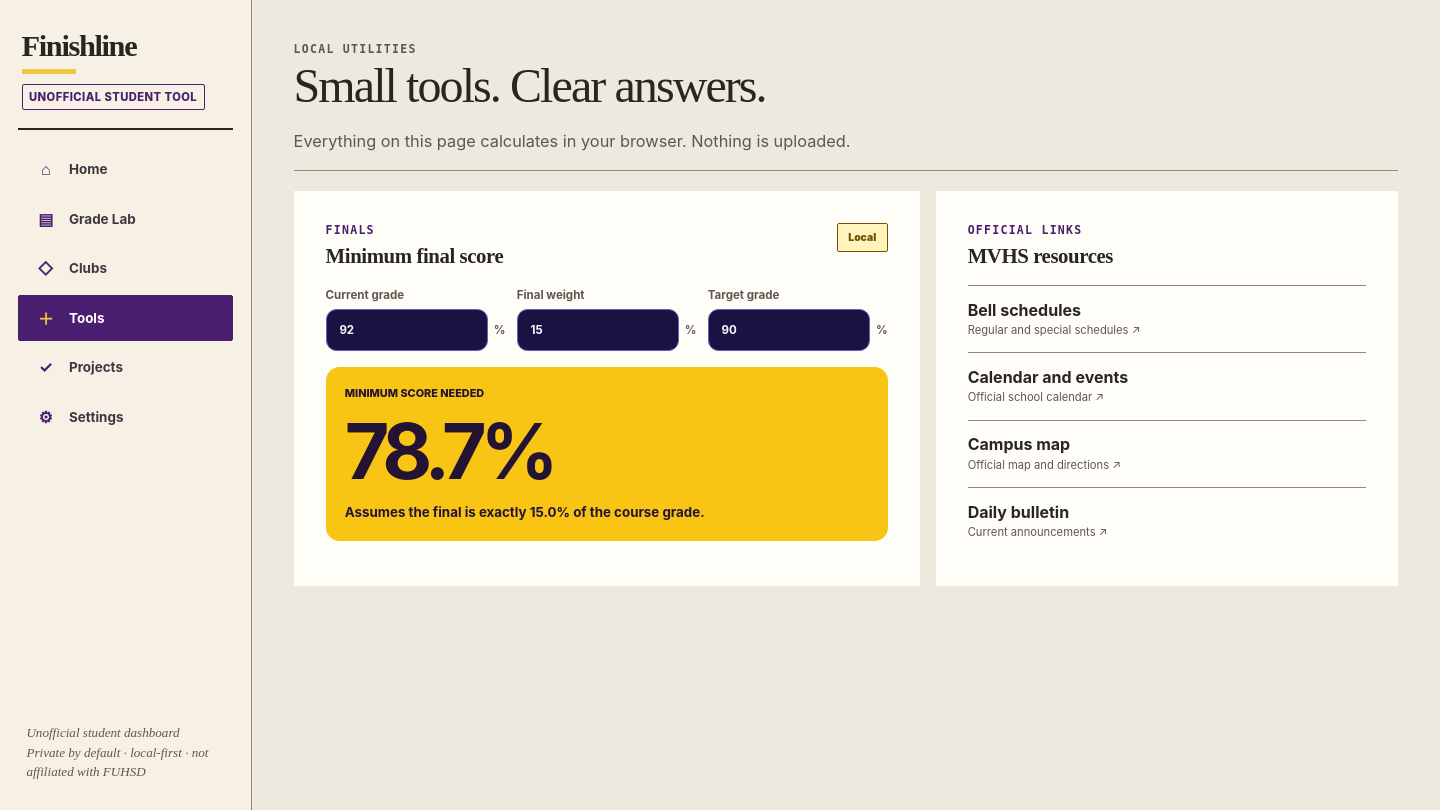
Test: finals calculator rejects blank numeric fields instead of treating them as zero
Clear the field labelled "Current grade": (407, 330) [326,309,488,351]
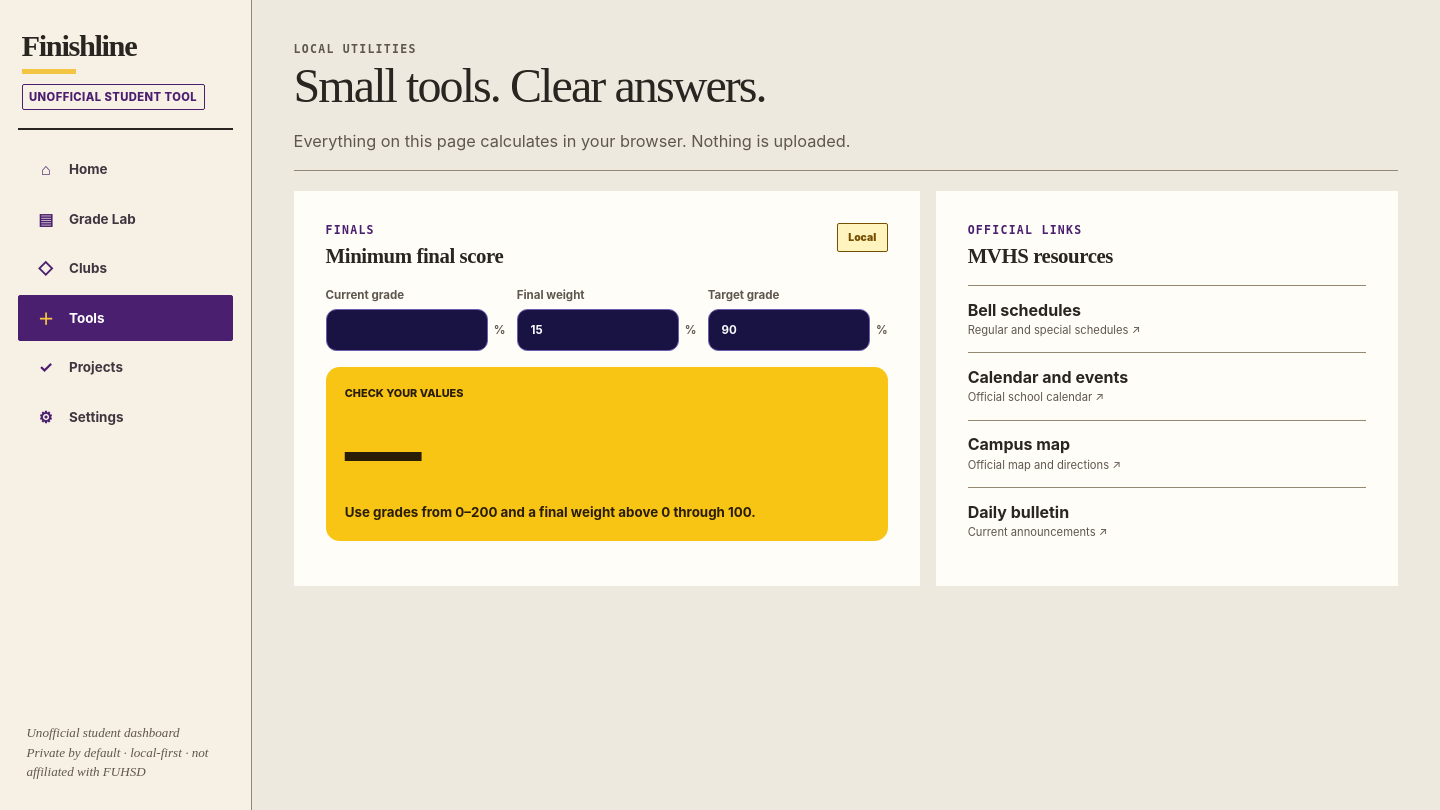
Expected: the message shows "Check your values", [345,386,463,400]
In the field labelled "Current grade": (407, 330) [326,309,488,351], type "92"
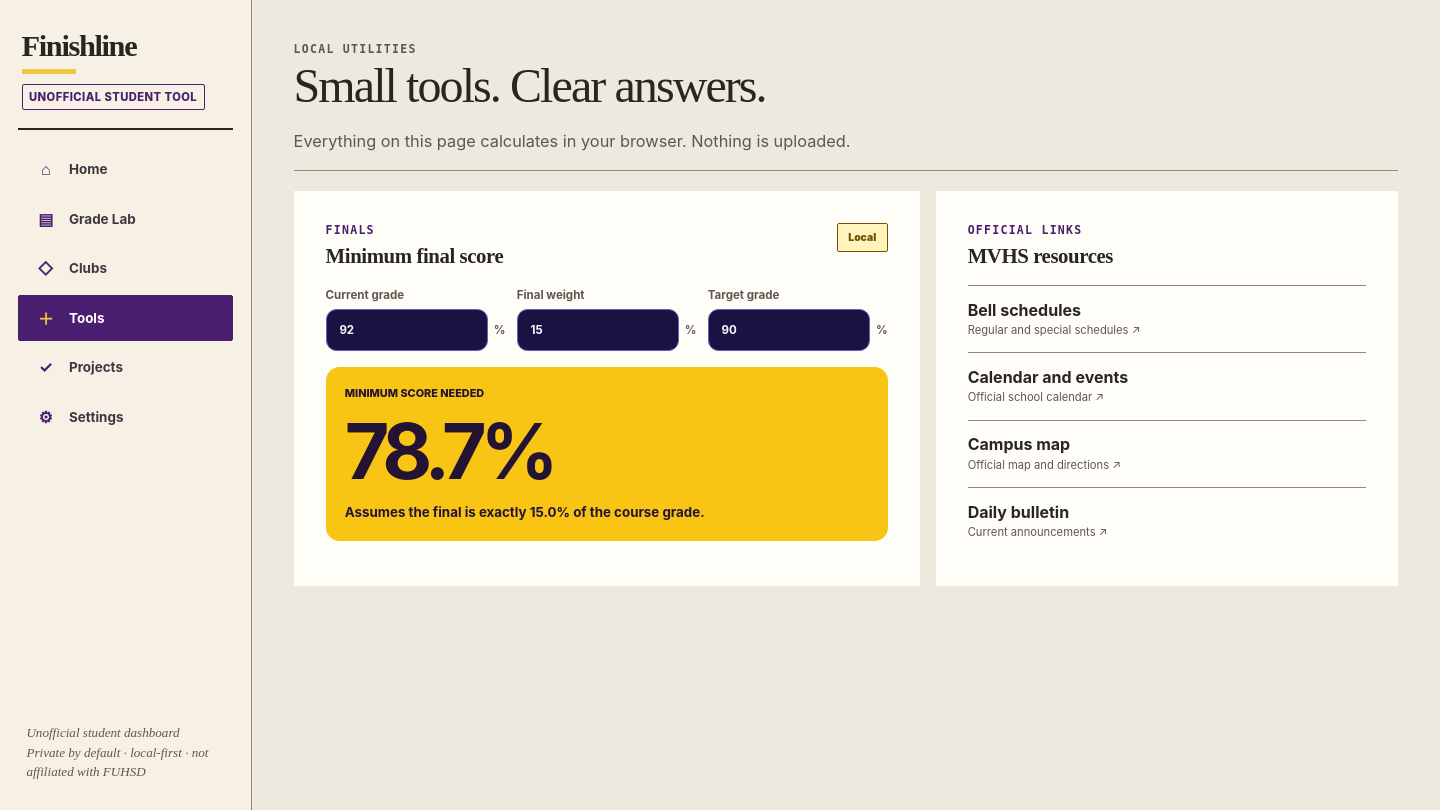
Clear the field labelled "Target grade": (789, 330) [708,309,870,351]
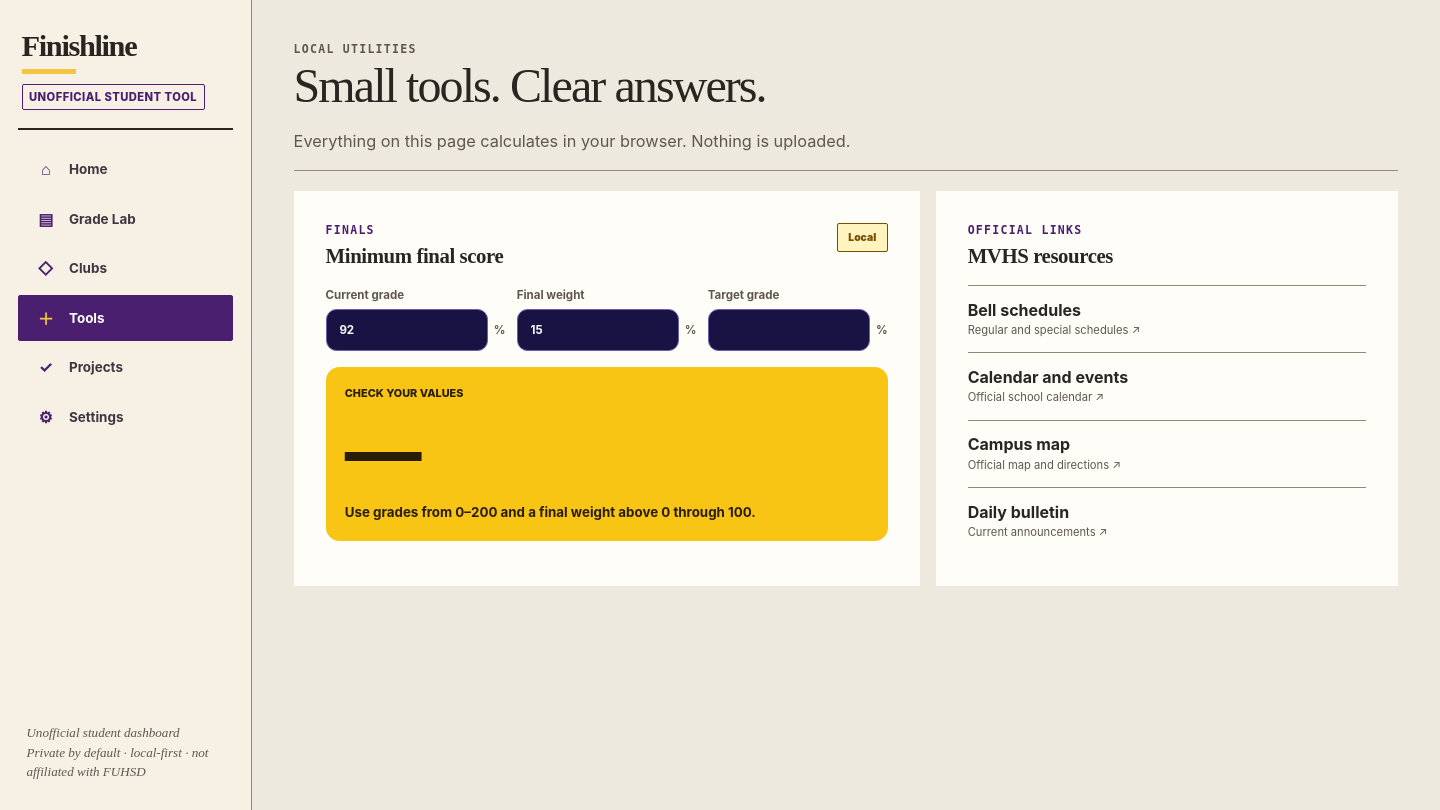
Expected: the message shows "Check your values", [345,386,463,400]
